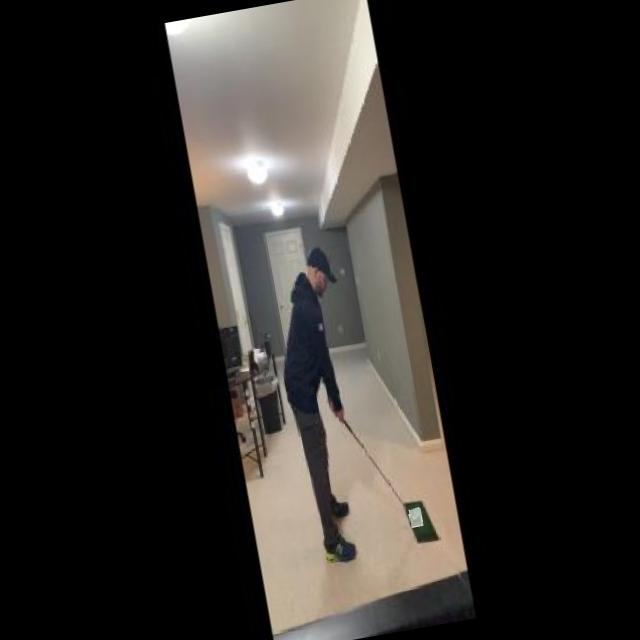club head: (408, 508, 423, 528)
